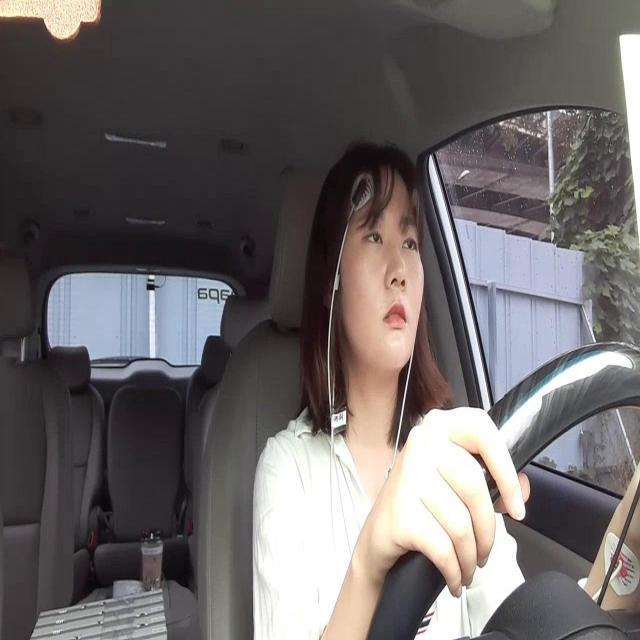Attentive: (317, 142, 427, 372)
